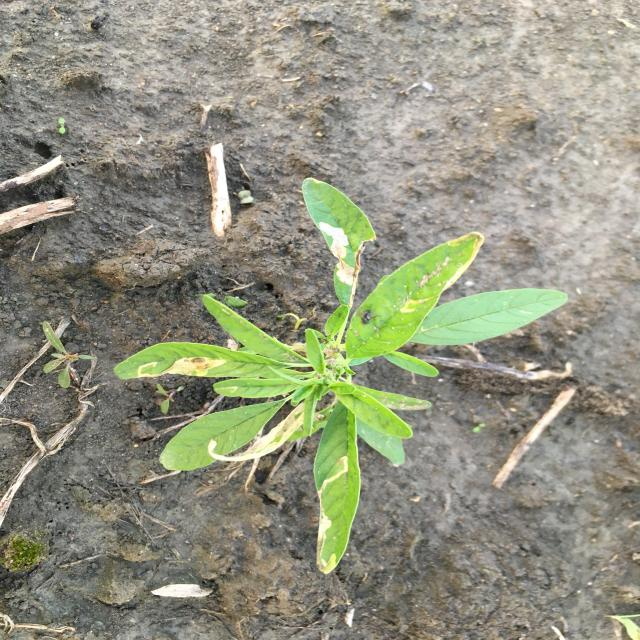Waterhemp: (111, 177, 570, 576), (39, 320, 98, 392)
